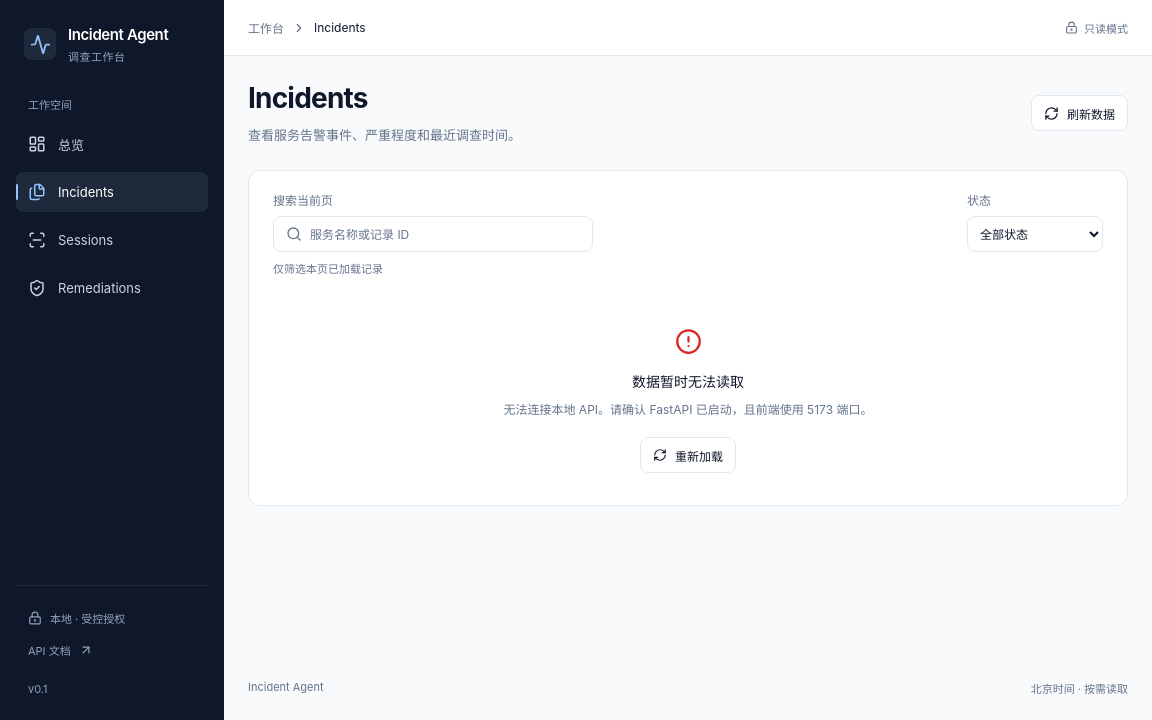
Test case: shows empty data and API failure as distinct states, and retries on request
Check: the message shows "无法连接本地 API", box [504,402,872,418]
Check: the text "暂无 Incident" is not shown
Step 1. Click the button "重新加载" → (688, 455), box [640,437,736,473]
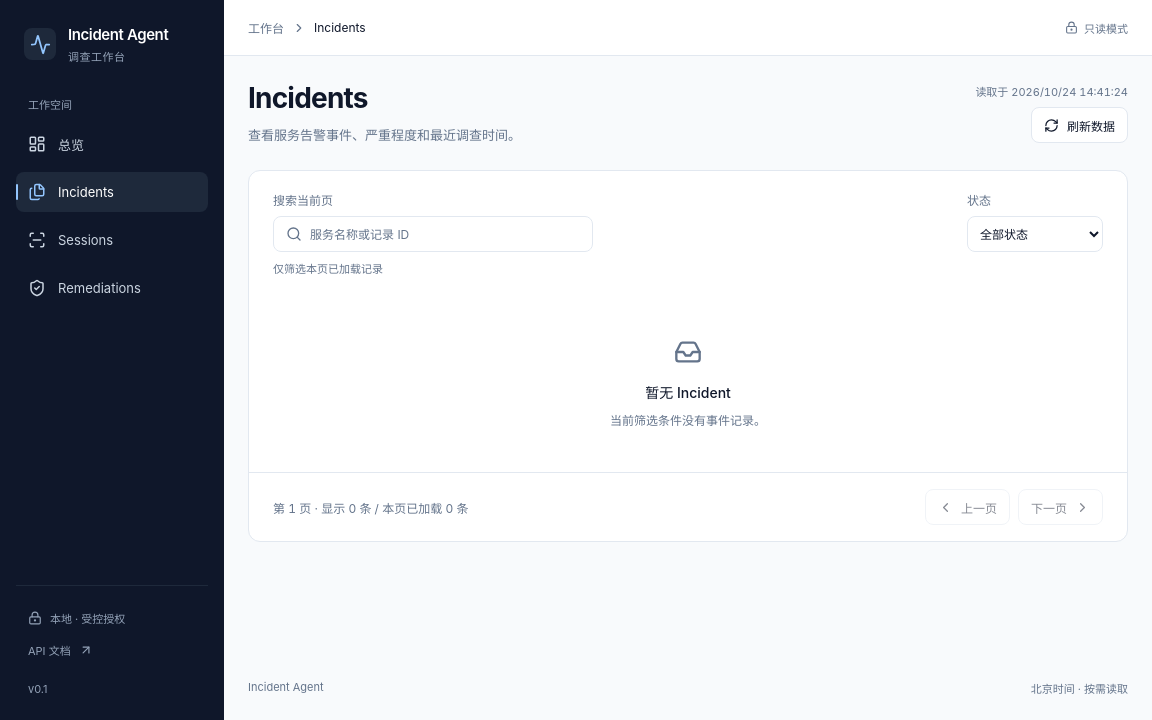
Check: the heading "暂无 Incident" is shown, box [645,382,731,402]
